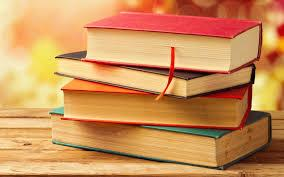Paper: (47, 12, 284, 173)
